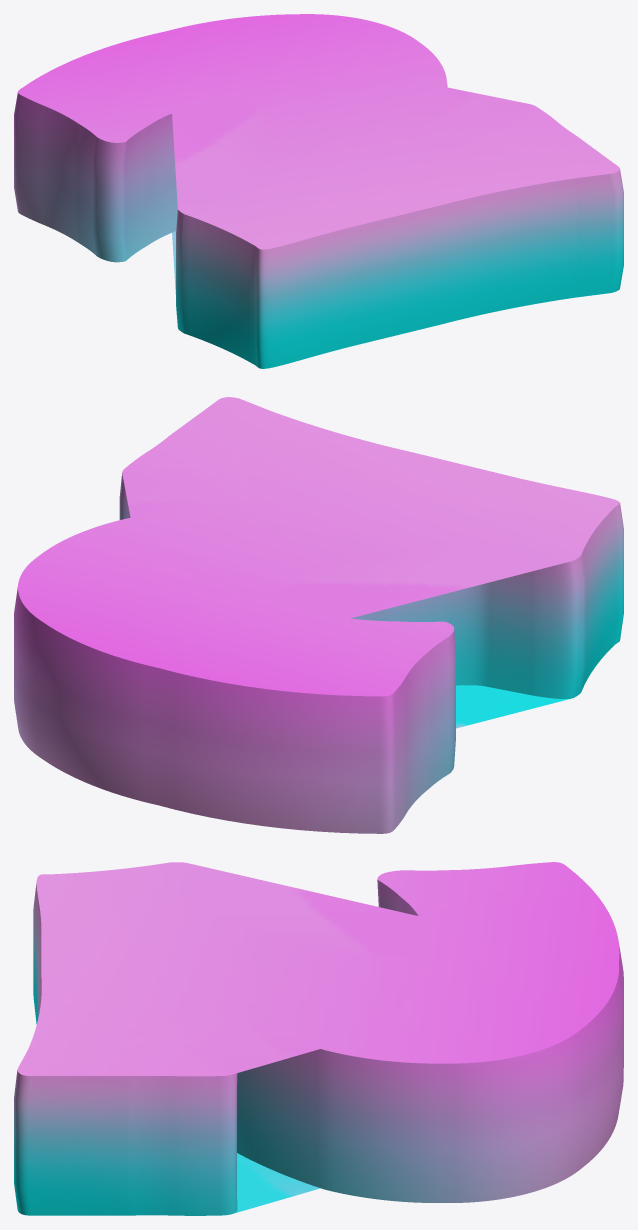
3 renders of one model, top to bottom at view 1: azimuth 30°, elevation 25°; view 2: azimuth 150°, elevation 25°; view 3: azimuth 270°, elevation 25°, orthographic. The views are drawn at different scales.
Parts seen in each view (by area): view 1: Curve.002; view 2: Curve.002; view 3: Curve.002.
Boxes of the visible parts, left/top/right/bottom form: Curve.002: left=14, top=14, right=623, bottom=368; Curve.002: left=14, top=397, right=623, bottom=833; Curve.002: left=14, top=862, right=623, bottom=1215.
Bounding box in the file's own units: 37.91 × 11.36 × 45.01.
1 material, 1 textured.
